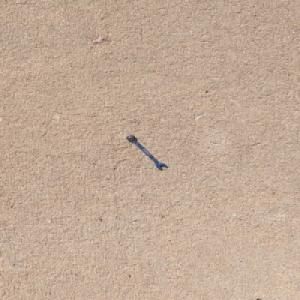Wrench: (126, 134, 168, 169)
